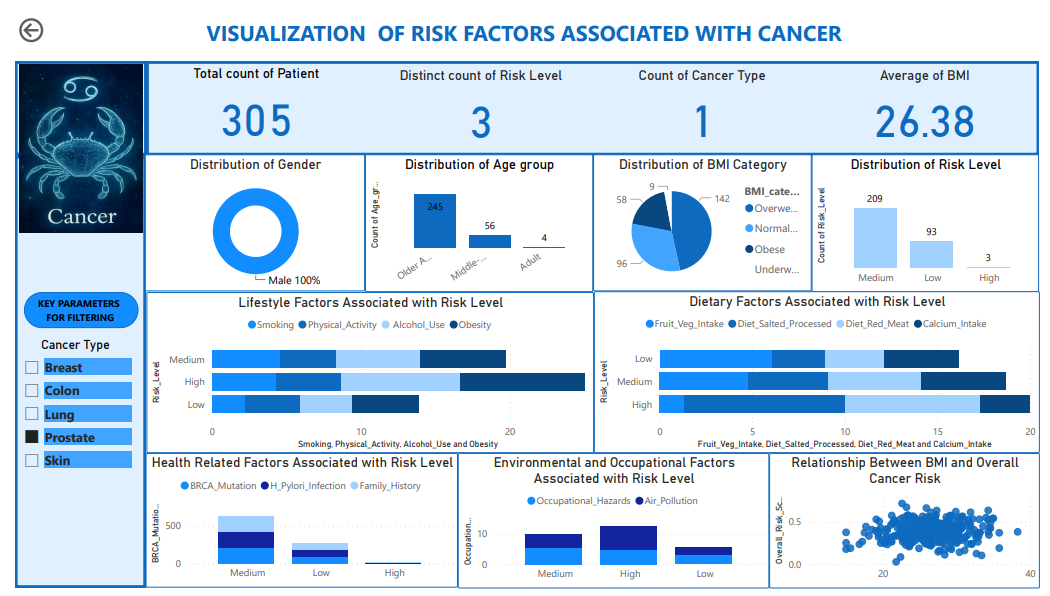

This screenshot's page, from the dashboard's own definition file:
{"tool":"powerbi","page":{"name":"Page 1","canvas":[1280,720],"ordinal":0},"visuals":[{"type":"shape","box":[0,176.6,163.2,539.7],"z":500},{"type":"textbox","box":[0,0,1279.3,58.6],"z":1000},{"type":"actionButton","box":[0,0,100,40],"z":2000},{"type":"slicer","title":"Cancer Type","fields":{"Values":["cancer-risk-factors.Cancer_Type"]},"box":[0,403.3,151.4,212],"z":3000},{"type":"shape","box":[163.8,58.6,1115.5,117.2],"z":4000},{"type":"shape","box":[0,58.6,163.8,117.2],"z":5000},{"type":"card","title":"Total count of Patient","fields":{"Values":["CountNonNull(cancer-risk-factors.Patient_ID)"]},"box":[192.3,64.1,219.2,106.2],"z":6000},{"type":"card","title":"Distinct count of Risk Level","fields":{"Values":["Count(cancer-risk-factors.Risk_Level)"]},"box":[470.5,65.8,222.6,106.2],"z":7000},{"type":"card","title":"Count of Cancer Type","fields":{"Values":["Count(cancer-risk-factors.Cancer_Type)"]},"box":[748.8,65.8,219.2,104.6],"z":8000},{"type":"card","title":"Average of BMI","fields":{"Values":["Avg(cancer-risk-factors.BMI)"]},"box":[1027,65.8,219.2,104.6],"z":9000},{"type":"donutChart","title":"Distribution of Gender ","fields":{"Category":["cancer-risk-factors.Gender"],"Y":["CountNonNull(cancer-risk-factors.Gender)"]},"box":[162,175.4,275.3,170.6],"z":10000},{"type":"columnChart","title":"Distribution of Age group","fields":{"Category":["cancer-risk-factors.Age_group"],"Y":["CountNonNull(cancer-risk-factors.Age_group)"]},"box":[436.8,175.4,285,172],"z":11000},{"type":"pieChart","title":"Distribution of BMI Category","fields":{"Category":["cancer-risk-factors.BMI_category"],"Y":["CountNonNull(cancer-risk-factors.BMI_category)"]},"box":[721.8,175.4,273.2,170.3],"z":12000},{"type":"columnChart","title":"Distribution of Risk Level","fields":{"Category":["cancer-risk-factors.Risk_Level"],"Y":["CountNonNull(cancer-risk-factors.Risk_Level)"]},"box":[994.9,175.6,283.3,170.5],"z":13000},{"type":"barChart","title":"Dietary Factors Associated with Risk Level","fields":{"Category":["cancer-risk-factors.Risk_Level"],"Y":["Avg(cancer-risk-factors.Fruit_Veg_Intake)","Avg(cancer-risk-factors.Diet_Salted_Processed)","Avg(cancer-risk-factors.Diet_Red_Meat)","Avg(cancer-risk-factors.Calcium_Intake)"]},"box":[723.2,346.4,557.1,201.8],"z":14000},{"type":"barChart","title":"Lifestyle Factors Associated with Risk Level","fields":{"Category":["cancer-risk-factors.Risk_Level"],"Y":["Avg(cancer-risk-factors.Smoking)","Avg(cancer-risk-factors.Physical_Activity)","Avg(cancer-risk-factors.Alcohol_Use)","Avg(cancer-risk-factors.Obesity)"]},"box":[163.6,347.4,559.9,200.7],"z":15000},{"type":"columnChart","title":"Health Related Factors Associated with Risk Level","fields":{"Category":["cancer-risk-factors.Risk_Level"],"Y":["CountNonNull(cancer-risk-factors.BRCA_Mutation)","CountNonNull(cancer-risk-factors.H_Pylori_Infection)","CountNonNull(cancer-risk-factors.Family_History)"]},"box":[163.2,548.2,389.8,168.1],"z":16000},{"type":"columnChart","title":"Environmental and Occupational Factors Associated with Risk Level","fields":{"Category":["cancer-risk-factors.Risk_Level"],"Y":["Avg(cancer-risk-factors.Occupational_Hazards)","Avg(cancer-risk-factors.Air_Pollution)"]},"box":[553.3,548.3,388.3,168.3],"z":17000},{"type":"scatterChart","title":"Relationship Between BMI and Overall Cancer Risk","fields":{"Y":["cancer-risk-factors.Overall_Risk_Score"],"X":["Sum(cancer-risk-factors.BMI)"]},"box":[941.7,548.3,338.3,168.3],"z":18000},{"type":"shape","box":[11,346.8,143.1,45.4],"z":19000},{"type":"textbox","box":[12.4,346.8,139,45.4],"z":20000},{"type":"image","box":[0,57.8,163.8,220.2],"z":21000}]}

Visuals, with their boxes in screenshot pixels (x1, y1, x2, y2), scaled from the page's 1280x720 canvas onto the 1050x596 screenshot:
shape: (left=0, top=146, right=134, bottom=593)
textbox: (left=0, top=0, right=1049, bottom=49)
actionButton: (left=0, top=0, right=82, bottom=33)
"Cancer Type" slicer: (left=0, top=334, right=124, bottom=509)
shape: (left=134, top=49, right=1049, bottom=146)
shape: (left=0, top=49, right=134, bottom=146)
"Total count of Patient" card: (left=158, top=53, right=338, bottom=141)
"Distinct count of Risk Level" card: (left=386, top=54, right=569, bottom=142)
"Count of Cancer Type" card: (left=614, top=54, right=794, bottom=141)
"Average of BMI" card: (left=842, top=54, right=1022, bottom=141)
"Distribution of Gender " donutChart: (left=133, top=145, right=359, bottom=286)
"Distribution of Age group" columnChart: (left=358, top=145, right=592, bottom=288)
"Distribution of BMI Category" pieChart: (left=592, top=145, right=816, bottom=286)
"Distribution of Risk Level" columnChart: (left=816, top=145, right=1049, bottom=286)
"Dietary Factors Associated with Risk Level" barChart: (left=593, top=287, right=1049, bottom=454)
"Lifestyle Factors Associated with Risk Level" barChart: (left=134, top=288, right=593, bottom=454)
"Health Related Factors Associated with Risk Level" columnChart: (left=134, top=454, right=454, bottom=593)
"Environmental and Occupational Factors Associated with Risk Level" columnChart: (left=454, top=454, right=772, bottom=593)
"Relationship Between BMI and Overall Cancer Risk" scatterChart: (left=772, top=454, right=1049, bottom=593)
shape: (left=9, top=287, right=126, bottom=325)
textbox: (left=10, top=287, right=124, bottom=325)
image: (left=0, top=48, right=134, bottom=230)
